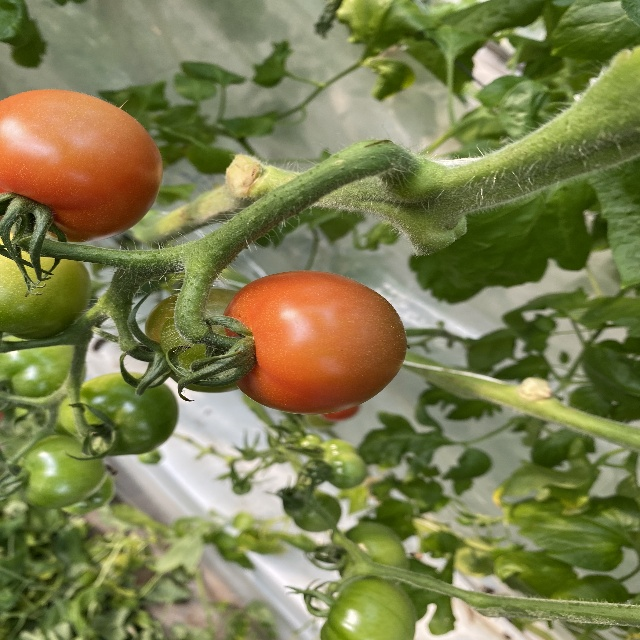l_fully_ripened: (223, 270, 409, 415), (0, 88, 162, 243)
l_green: (60, 372, 178, 457), (0, 232, 91, 340), (146, 288, 239, 393), (17, 435, 107, 509), (158, 301, 235, 386), (319, 577, 417, 639), (336, 521, 408, 586)
